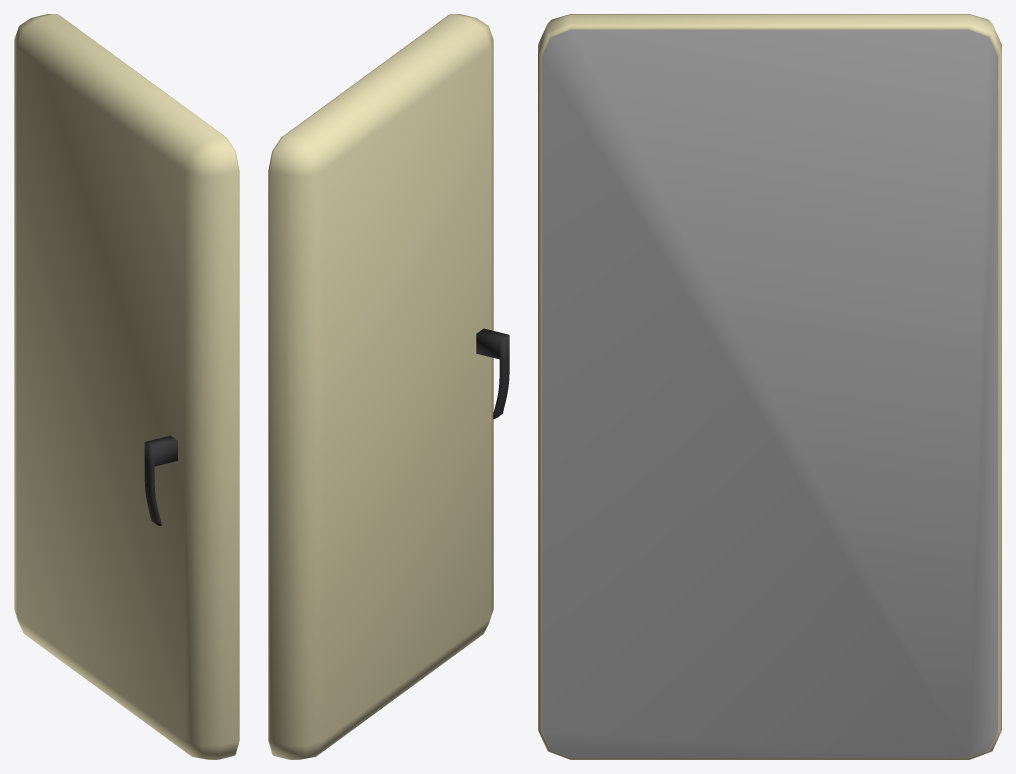
The model's file is FridgeDoor.fbx.
The picture shows the model from 3 angles, left to right: view 1: azimuth 30°, elevation 25°; view 2: azimuth 150°, elevation 25°; view 3: azimuth 270°, elevation 25°; orthographic projection. The views are drawn at different scales.
Visible parts, largest first — view 1: Fridge Door; view 2: Fridge Door; view 3: Fridge Door.
Boxes of the visible parts, box(x1,y1,x2,y2) form: Fridge Door: box(14, 14, 239, 759); Fridge Door: box(268, 14, 509, 759); Fridge Door: box(538, 14, 1001, 759).
Bounding box in the file's own units: 19.98 × 170 × 96.88.
